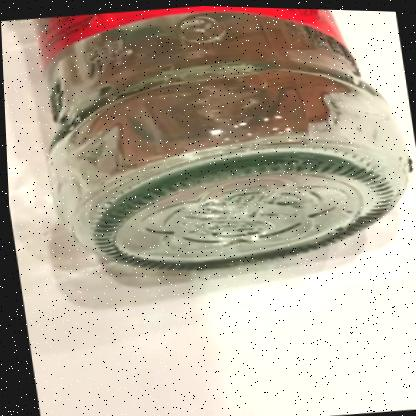Glass: (45, 7, 409, 269)
